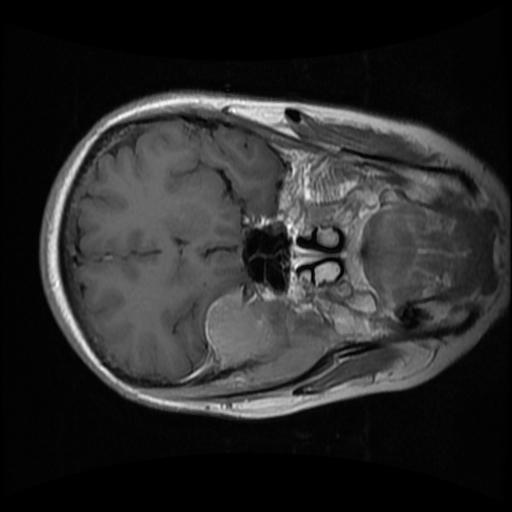meningioma: (204, 289, 273, 369)
